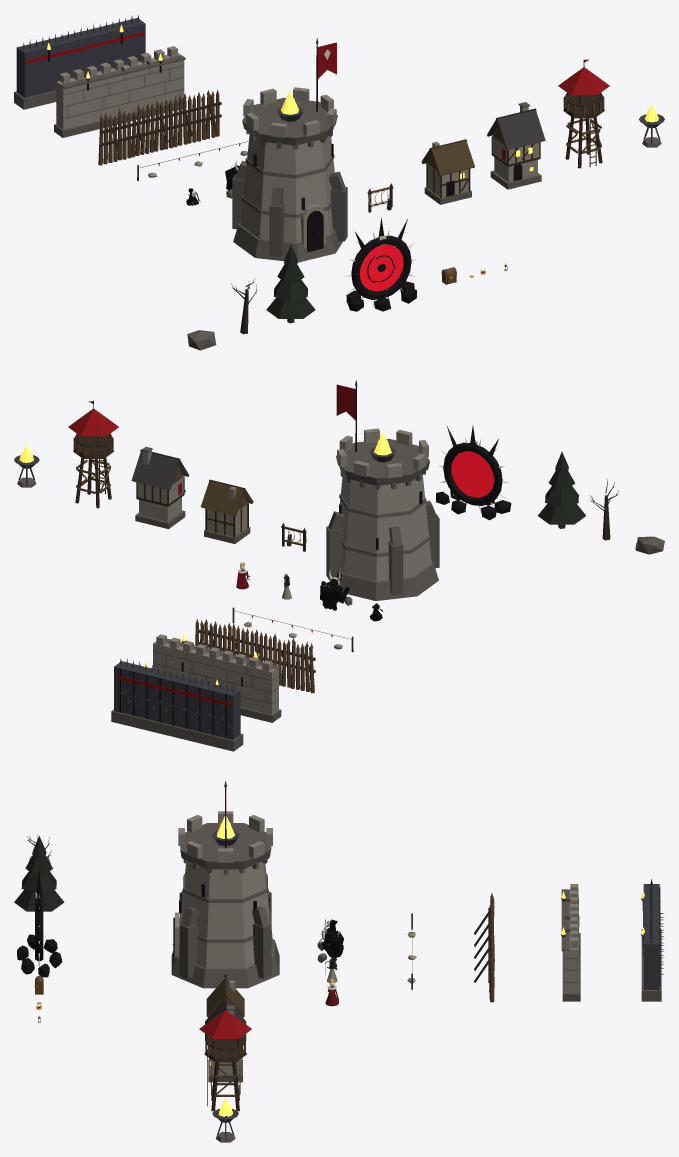
Rendered from ringhold_assets.glb.
The picture shows the model from 3 angles, top to bottom: view 1: azimuth 30°, elevation 25°; view 2: azimuth 150°, elevation 25°; view 3: azimuth 270°, elevation 25°; orthographic projection. The views are drawn at different scales.
Visible parts, largest first — view 1: keep, wall_stone, wall_iron, wall_wood, house2, tower, house1, portal, tree_pine, portal_core, keep_banner; view 2: keep, wall_iron, wall_stone, wall_wood, house2, tower, house1, portal, tree_pine, portal_core, breaker, keep_banner; view 3: keep, tower, wall_iron, wall_stone, tree_pine, portal, wall_wood, house2, house1, breaker.
Boxes of the visible parts, box(x1,y1,x2,y2) form: keep: box(232, 37, 347, 262); wall_stone: box(54, 46, 186, 137); wall_iron: box(14, 15, 145, 109); wall_wood: box(98, 90, 221, 165); house2: box(487, 102, 545, 189); tower: box(558, 59, 609, 168); house1: box(421, 139, 474, 204); portal: box(344, 217, 416, 311); tree_pine: box(266, 245, 315, 323); portal_core: box(359, 244, 403, 291); keep_banner: box(317, 42, 336, 78); keep: box(326, 380, 439, 600); wall_iron: box(111, 658, 243, 751); wall_stone: box(153, 633, 281, 722); wall_wood: box(195, 619, 315, 693); house2: box(131, 446, 189, 529); tower: box(68, 400, 118, 508); house1: box(200, 479, 253, 543); portal: box(436, 425, 511, 520); tree_pine: box(538, 452, 585, 528); portal_core: box(451, 451, 494, 497); breaker: box(320, 569, 352, 610); keep_banner: box(336, 384, 355, 420); keep: box(171, 781, 279, 988); tower: box(199, 1002, 251, 1111); wall_iron: box(641, 879, 663, 1001); wall_stone: box(561, 884, 580, 1001); tree_pine: box(14, 836, 64, 911); portal: box(17, 870, 62, 977); wall_wood: box(474, 893, 494, 1002); house2: box(205, 996, 246, 1082); house1: box(206, 978, 244, 1017); breaker: box(317, 919, 343, 962).
Bounding box in the file's own units: 50.18 × 17.06 × 48.9.
